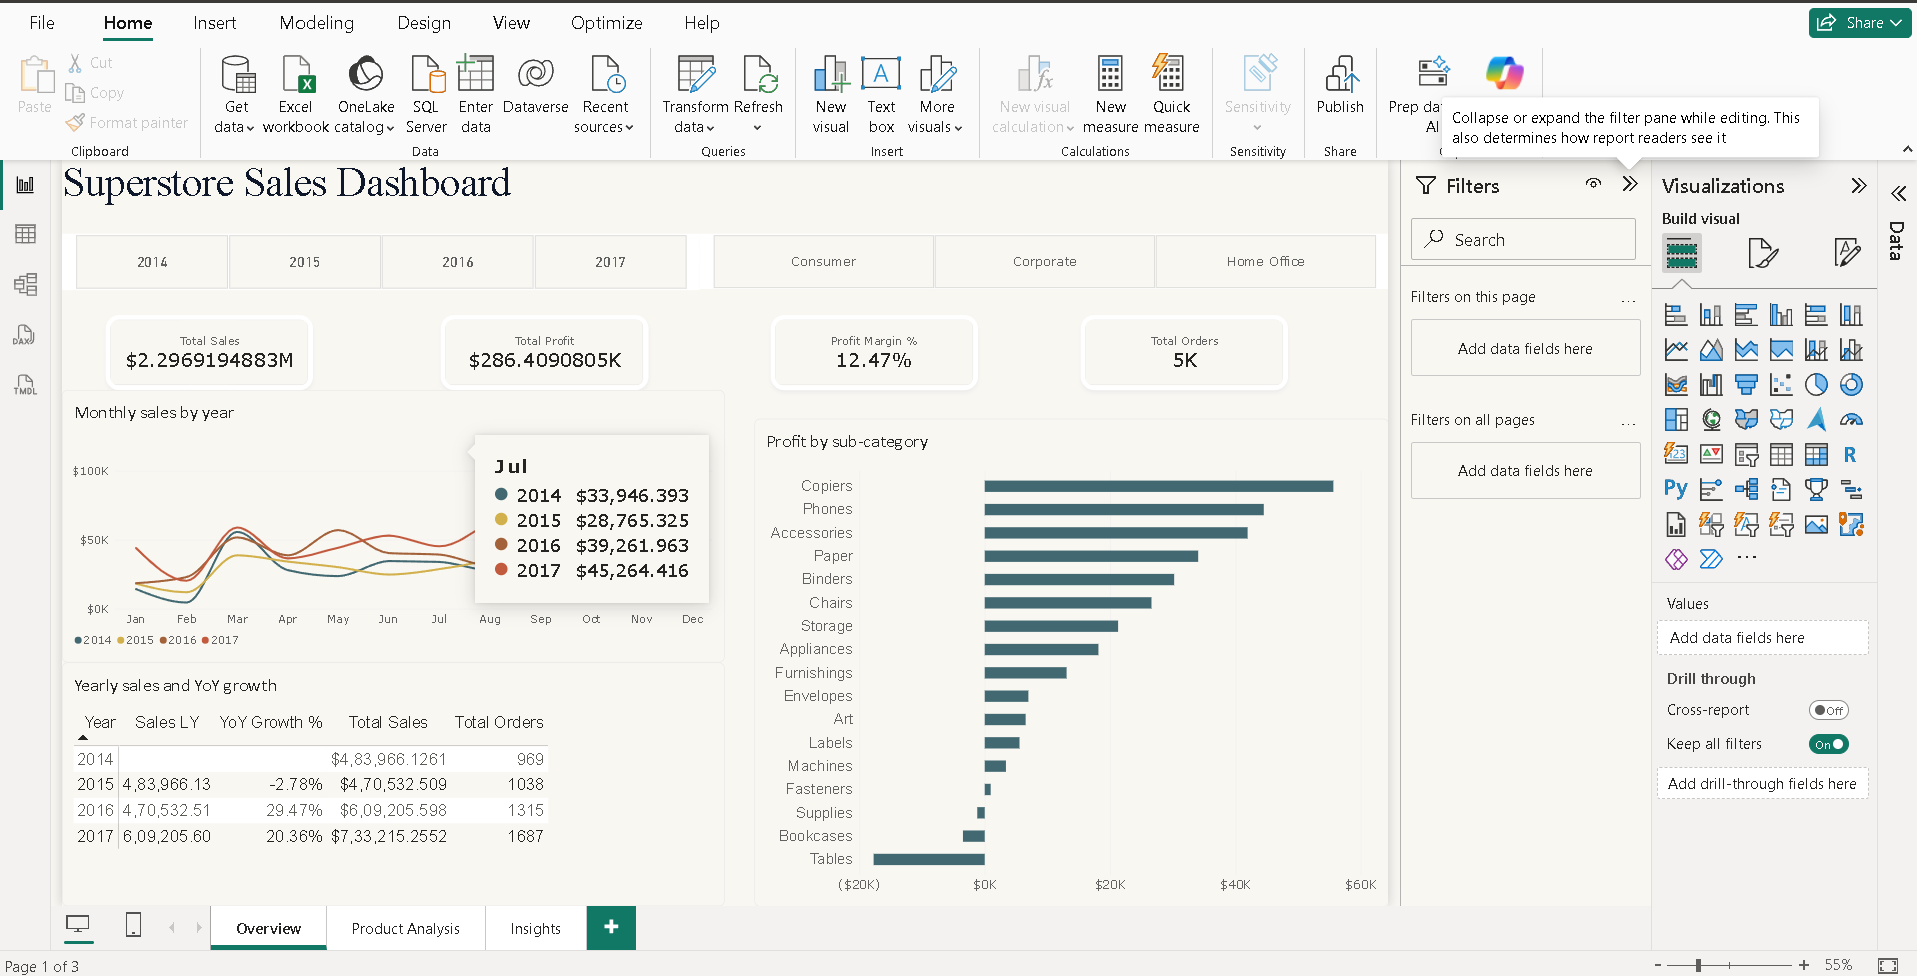

This screenshot's page, from the dashboard's own definition file:
{"tool":"powerbi","page":{"name":"Overview","canvas":[1920,1080],"ordinal":0},"visuals":[{"type":"pivotTable","title":"Yearly sales and YoY growth","fields":{"Rows":["Date.Year"],"Values":["Orders.Sales LY","Orders.YoY Growth %","Orders.Total Sale","Orders.Total Orders"]},"box":[0,727.5,959.1,352.9],"z":0},{"type":"cardVisual","fields":{"Data":["Orders.Total Profit"]},"box":[548.3,224.4,300.5,109.1],"z":1000},{"type":"cardVisual","fields":{"Data":["Orders.Profit Margin %"]},"box":[1026.1,224.4,300,109],"z":2000},{"type":"cardVisual","fields":{"Data":["Orders.Total Orders"]},"box":[1474.9,224.4,300,109],"z":3000},{"type":"cardVisual","fields":{"Data":["Orders.Total Sale"]},"box":[63.3,224.4,300,109.1],"z":4000},{"type":"lineChart","title":"Monthly sales by year","fields":{"Category":["Date.Month Name"],"Series":["Date.Year"],"Y":["Orders.Total Sale"]},"box":[0,333,959.1,394.5],"z":5000},{"type":"slicer","fields":{"Values":["Date.Year"]},"box":[0,106.8,922.9,81.4],"z":6000},{"type":"clusteredBarChart","title":"Profit by sub-category","fields":{"Category":["Products.Sub-Category"],"Y":["Orders.Total Profit"]},"box":[1002.6,374.6,918,706],"z":7000},{"type":"slicer","fields":{"Values":["Customers.Segment"]},"box":[922.1,107,998.3,80.3],"z":8000},{"type":"textbox","box":[0,0,904.8,106.8],"z":9000}]}

Visuals, with their boxes on the page's 1920x1080 design canvas (x1, y1, x2, y2). These are canvas units, not pixel positions in the 1917x976 screenshot, which may show the page scaled, cropped or inside an application window:
"Yearly sales and YoY growth" pivotTable: (0,728,959,1080)
cardVisual - Orders.Total Profit: (548,224,849,334)
cardVisual - Orders.Profit Margin %: (1026,224,1326,333)
cardVisual - Orders.Total Orders: (1475,224,1775,333)
cardVisual - Orders.Total Sale: (63,224,363,334)
"Monthly sales by year" lineChart: (0,333,959,728)
slicer - Date.Year: (0,107,923,188)
"Profit by sub-category" clusteredBarChart: (1003,375,1921,1081)
slicer - Customers.Segment: (922,107,1920,187)
textbox: (0,0,905,107)
